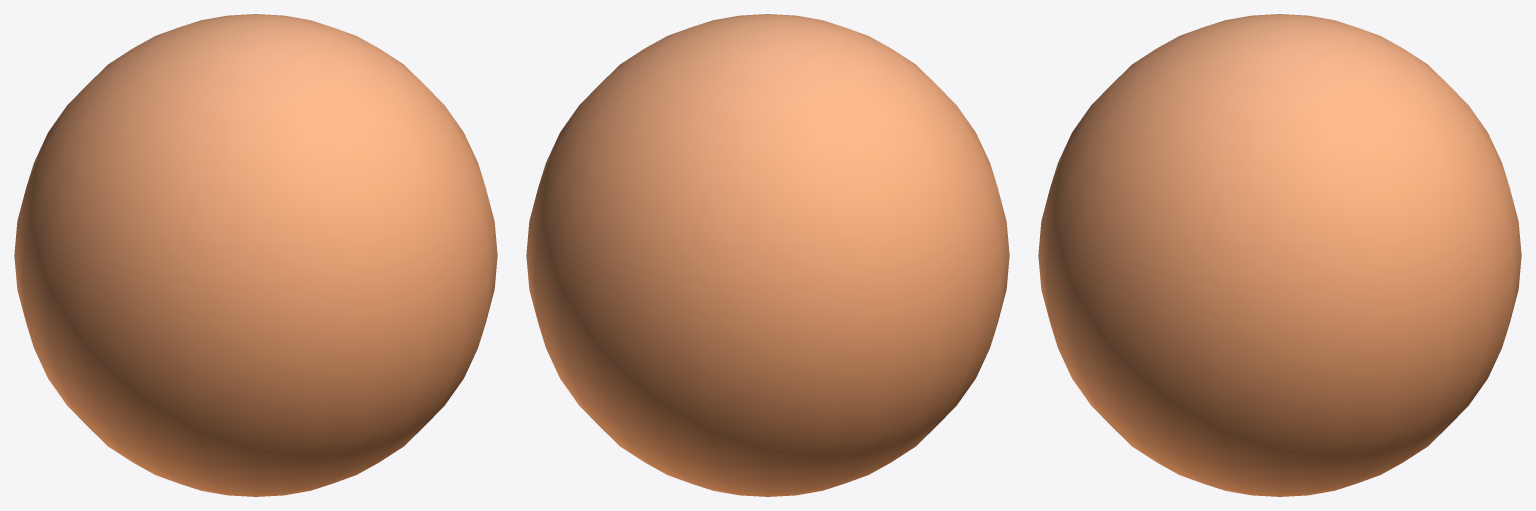
The model's file is ground_013.glb.
3 renders of one model, left to right at view 1: azimuth 30°, elevation 25°; view 2: azimuth 150°, elevation 25°; view 3: azimuth 270°, elevation 25°, orthographic.
Visible parts, largest first — view 1: ground_013; view 2: ground_013; view 3: ground_013.
Part boxes in pixels (box(x1,y1,x2,y2)): ground_013: box(14, 14, 497, 496); ground_013: box(526, 14, 1009, 496); ground_013: box(1038, 14, 1521, 496).
Size of the model in its own units: 20.09 by 20.09 by 20.09.
Materials: 1 (1 with a texture image).
